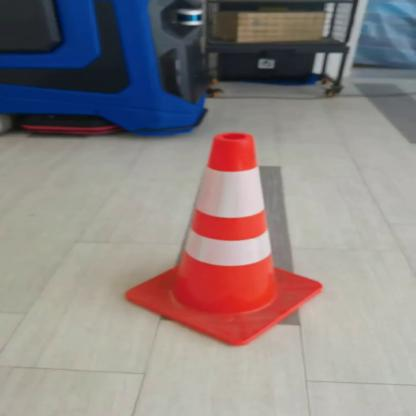cone: (103, 132, 332, 352)
